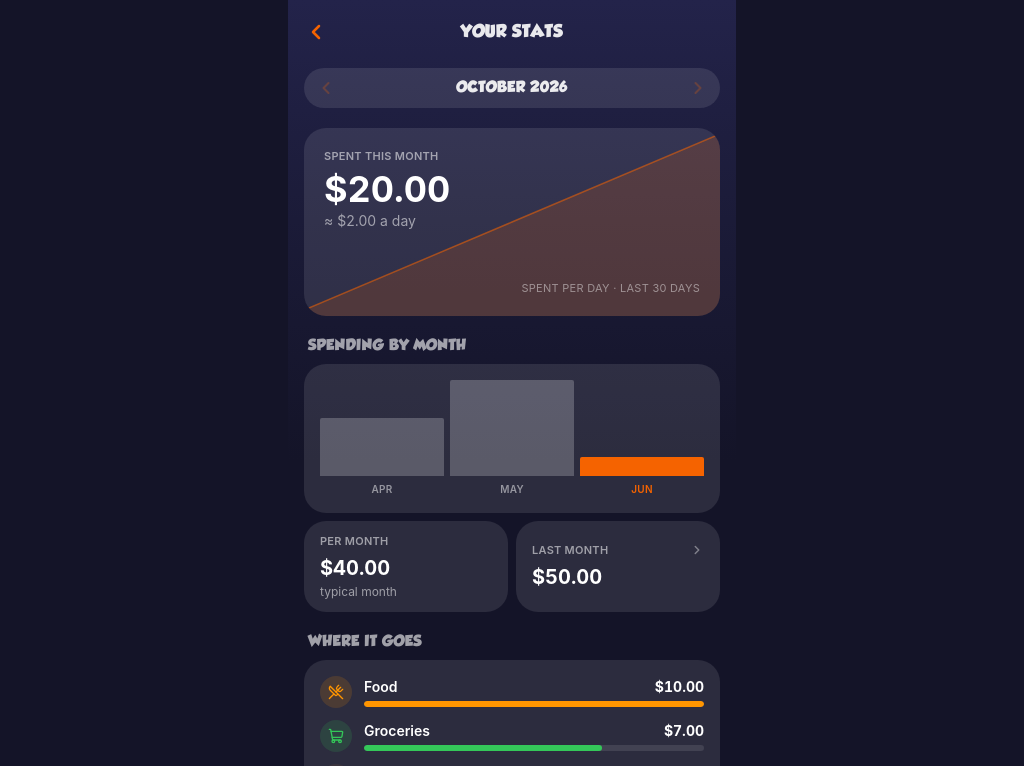
Test case: Stats › jumps to last month from the Last month fact chip
Click the button "Last month $50.00": (618, 566) left=516, top=521, right=720, bottom=612
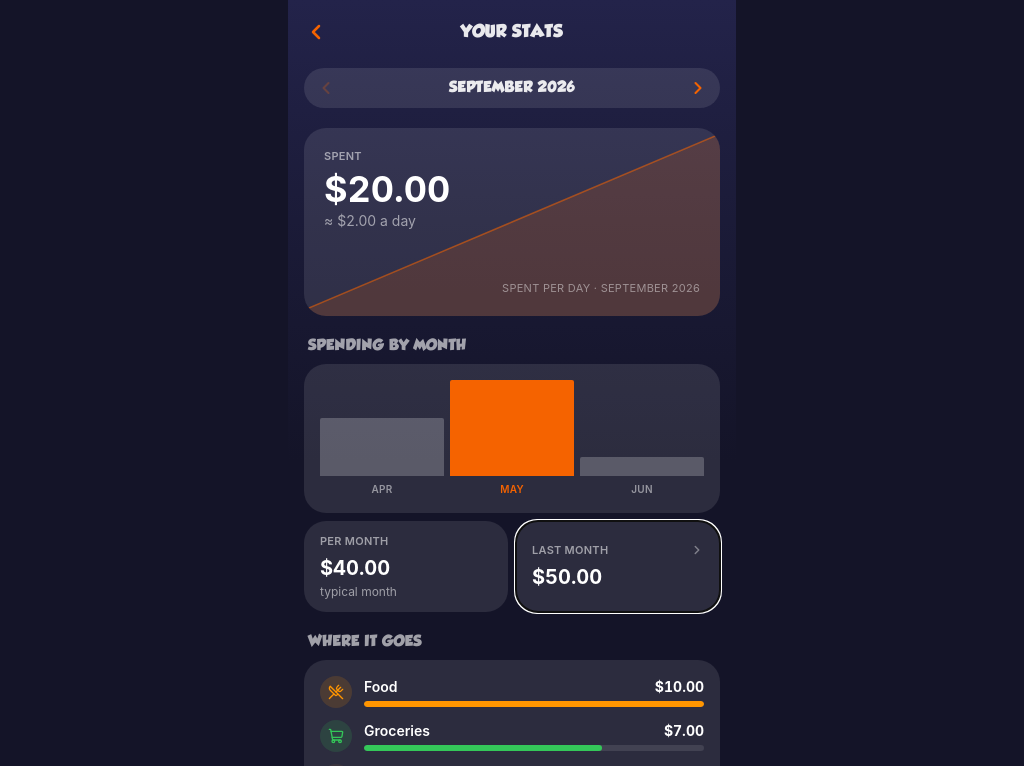
Expected: the text "Spent" is shown, left=324, top=149, right=362, bottom=163
Expected: the text "Spent this month" is gone
